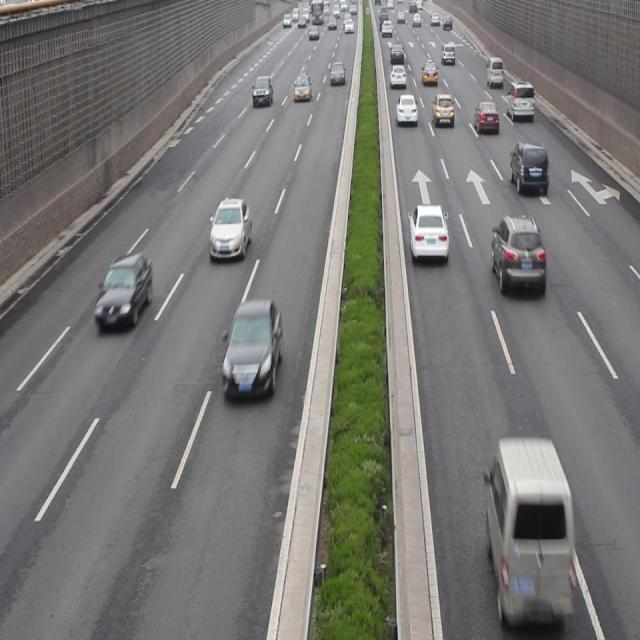car: (222, 300, 283, 396), (95, 253, 152, 329), (491, 214, 544, 294), (210, 196, 251, 263), (407, 204, 449, 264), (509, 141, 545, 196), (472, 99, 500, 134)
truck: (482, 437, 574, 613)
